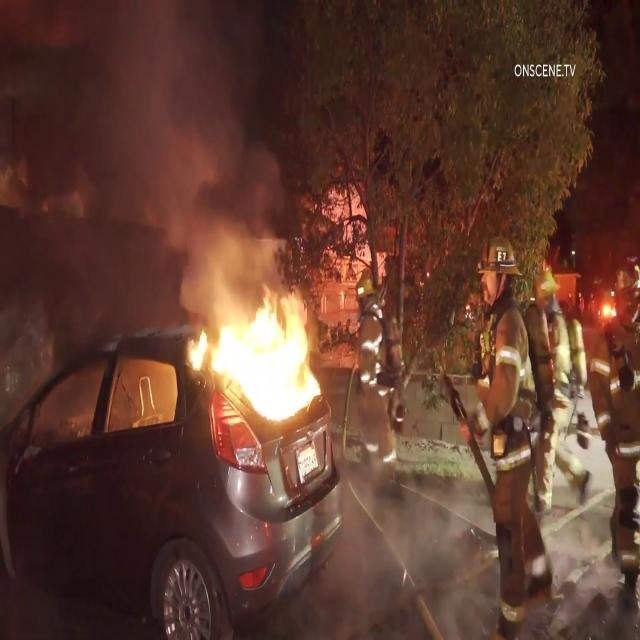fire: (222, 212, 344, 419)
smoke: (82, 0, 298, 220)
